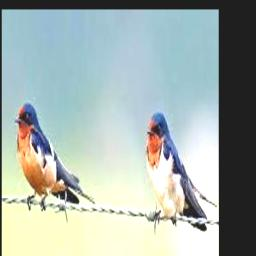Swallow: (13, 101, 95, 209), (145, 112, 217, 231)
